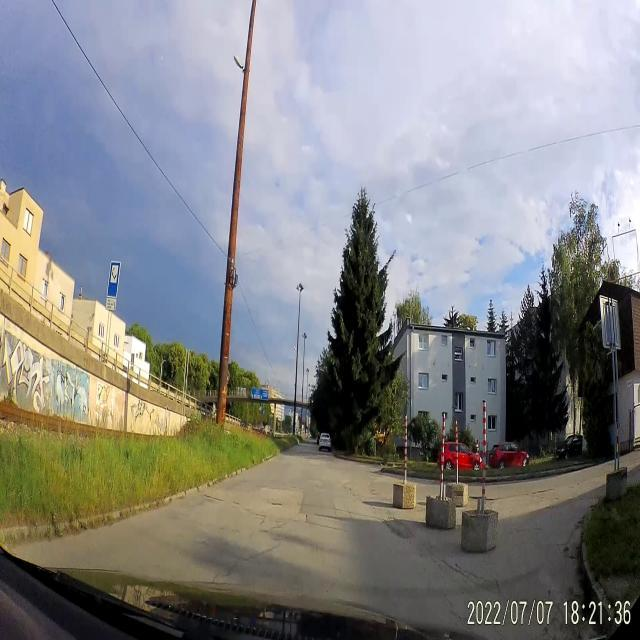Pothole: (200, 492, 238, 508), (268, 496, 286, 512)
